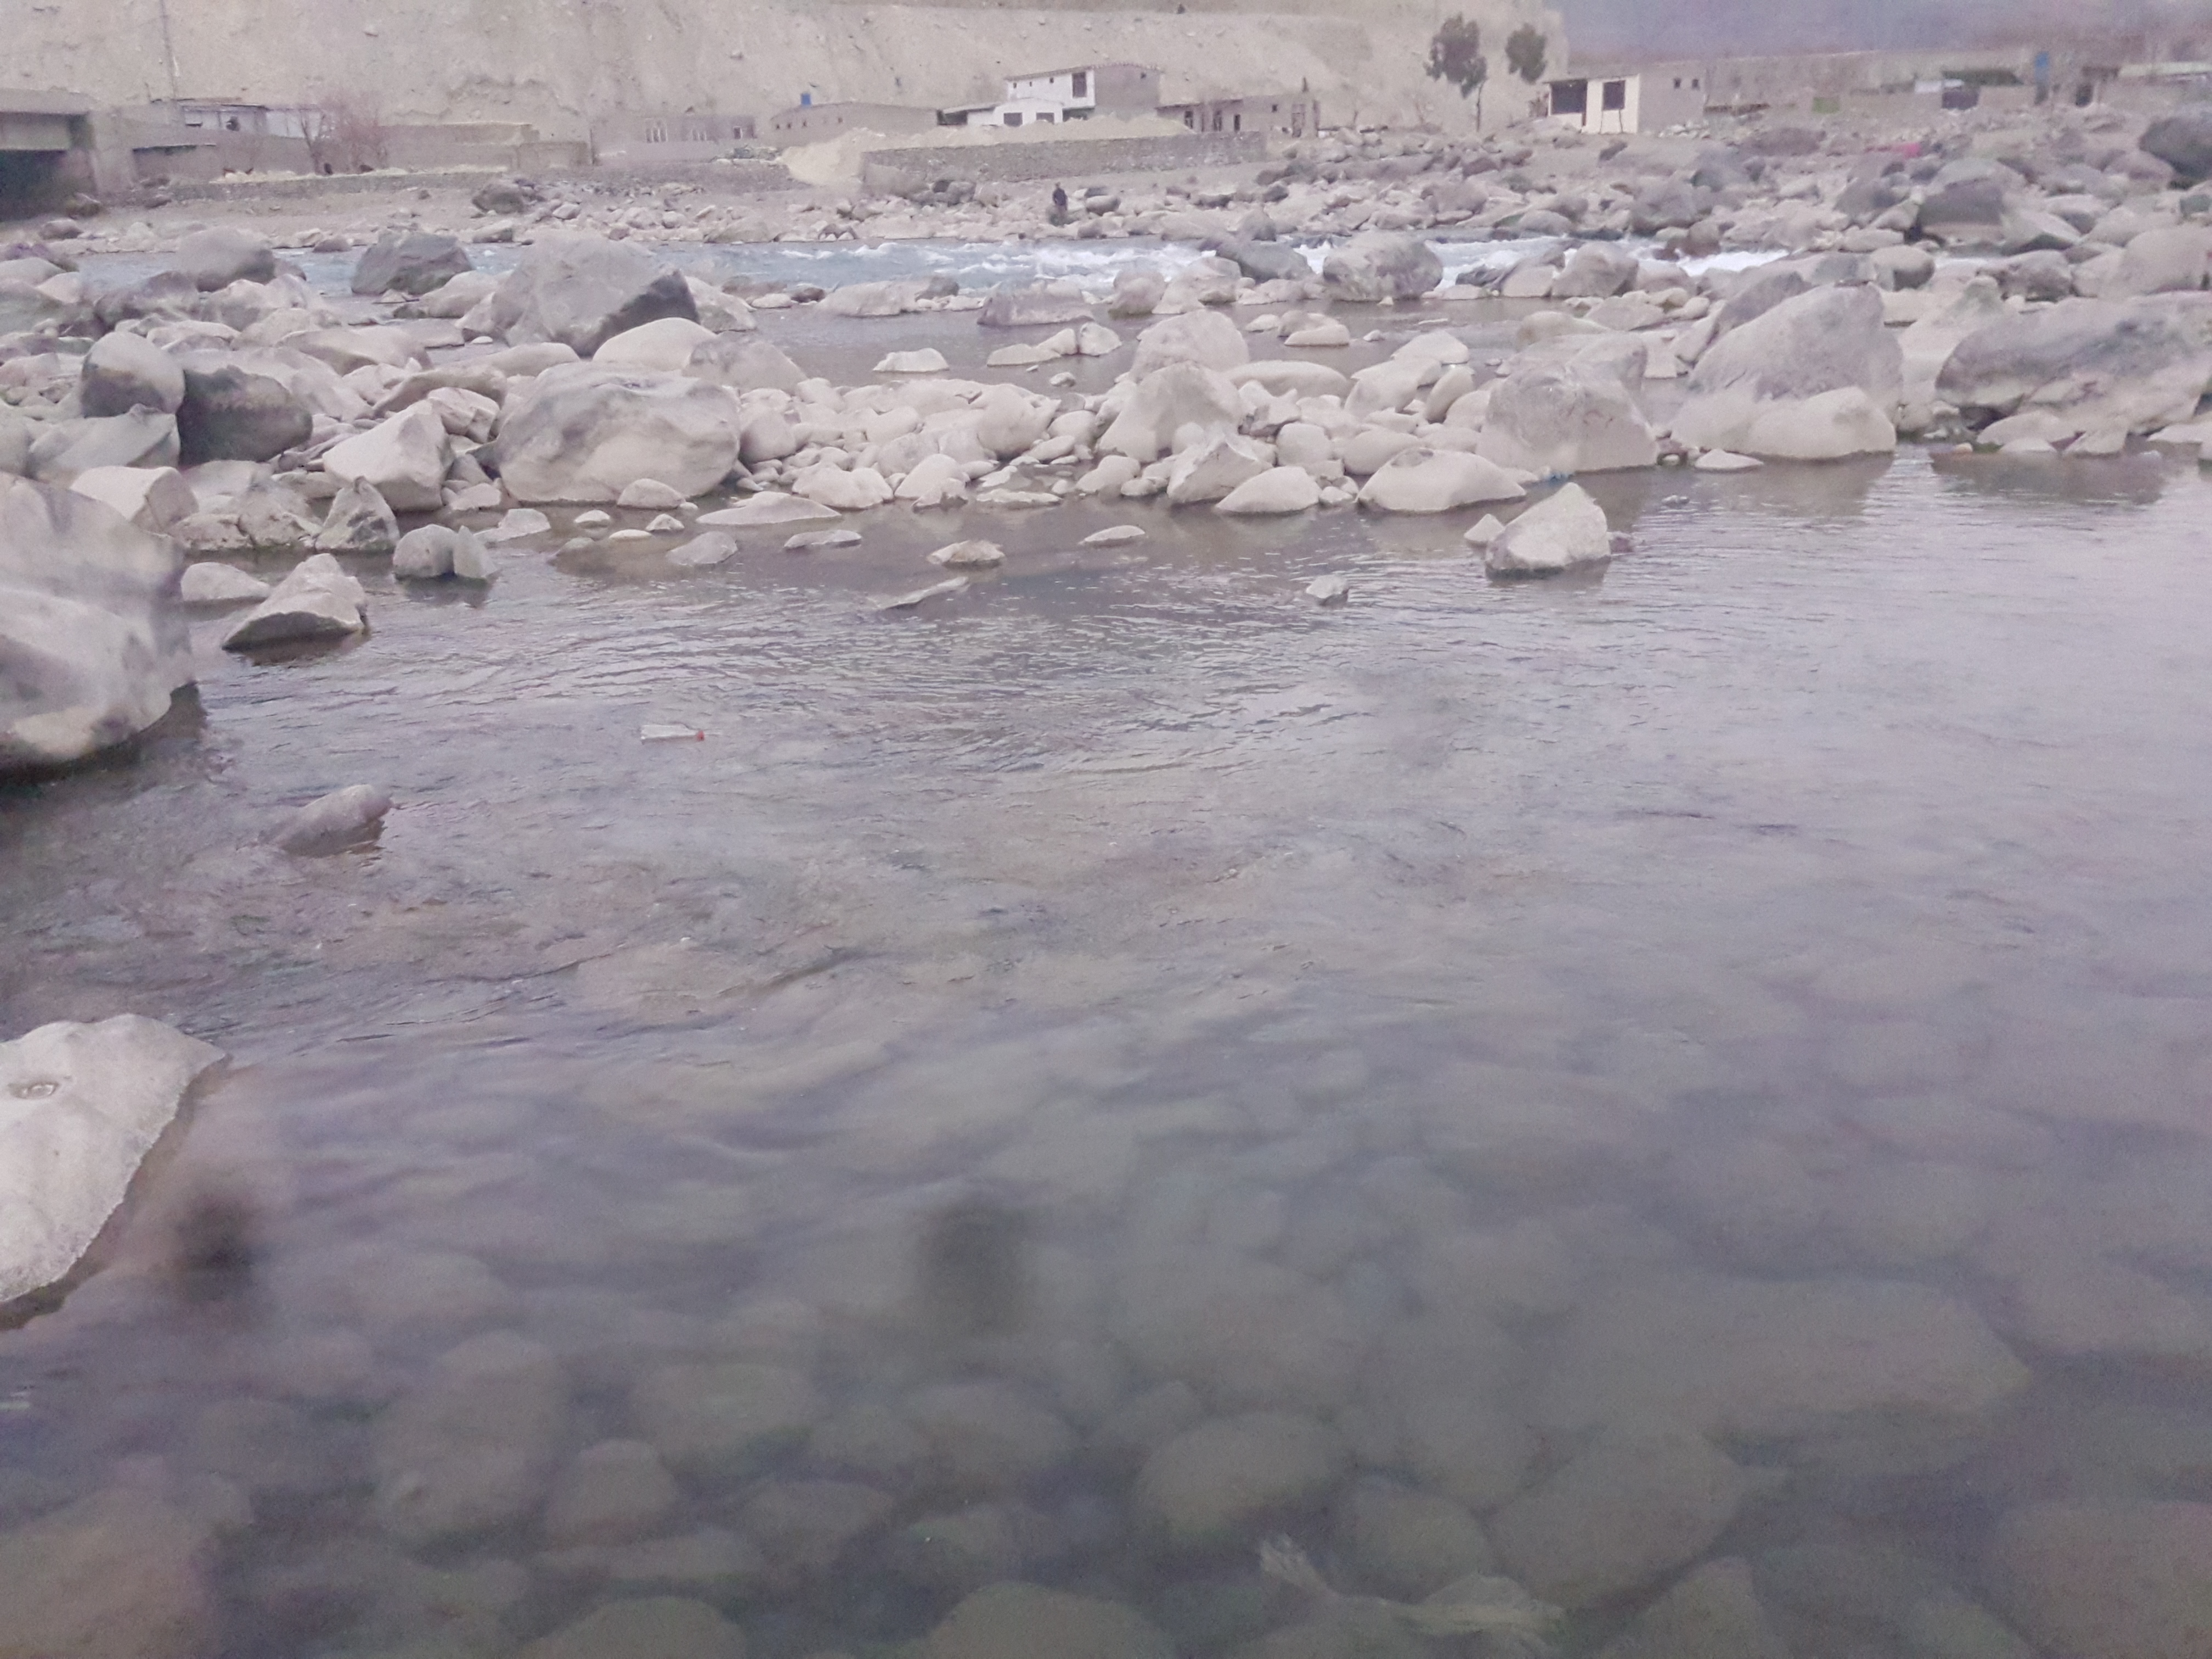Plastic Bottle: (641, 723, 704, 739), (1541, 469, 1573, 479), (2139, 450, 2160, 457)
